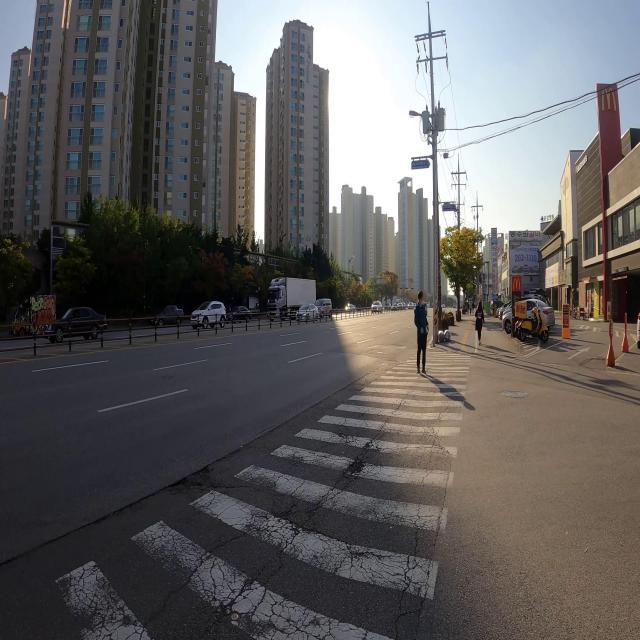crosswalk: (43, 351, 474, 640)
